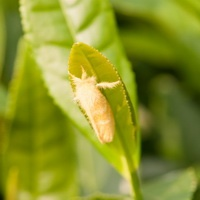insect: (69, 67, 114, 143)
